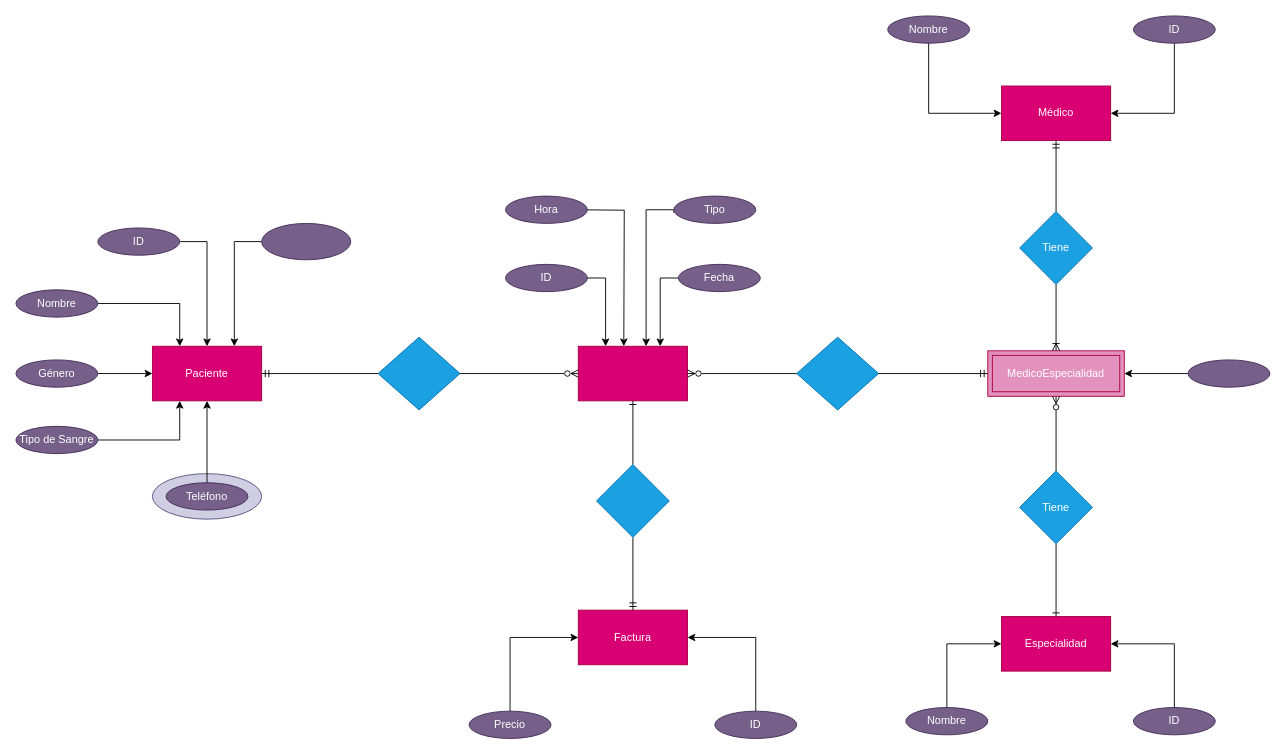
The diagram is 1286 pixels wide and 754 high, and some of its shapes have lost their labels. Here are the shapes that lost their labels. From the top down, the centre of each, then its label:
At pixel 306 241: "Fecha de Nacimiento".
At pixel 418 373: "Solicita".
At pixel 632 373: "Cita".
At pixel 837 373: "Se Asocia".
At pixel 1228 373: "Estado".
At pixel 632 500: "Genera".
